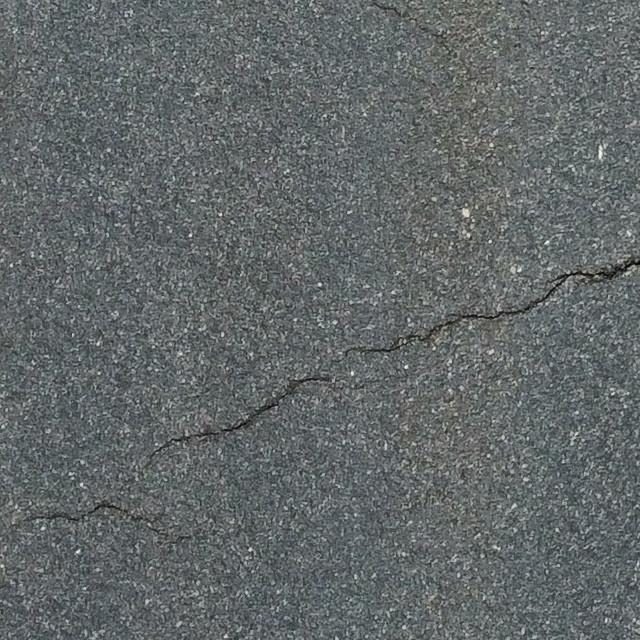TransverseCrack: (26, 258, 640, 526)
